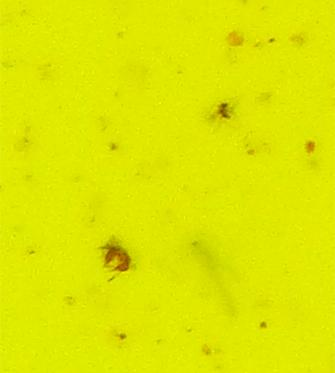Hymenoptera: (100, 242, 132, 273)
Nematocera: (214, 100, 235, 121)
